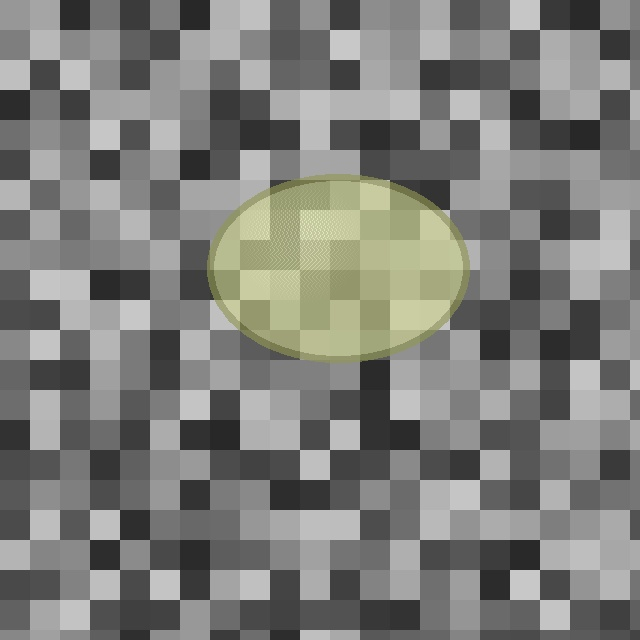lens: (210, 177, 466, 359)
